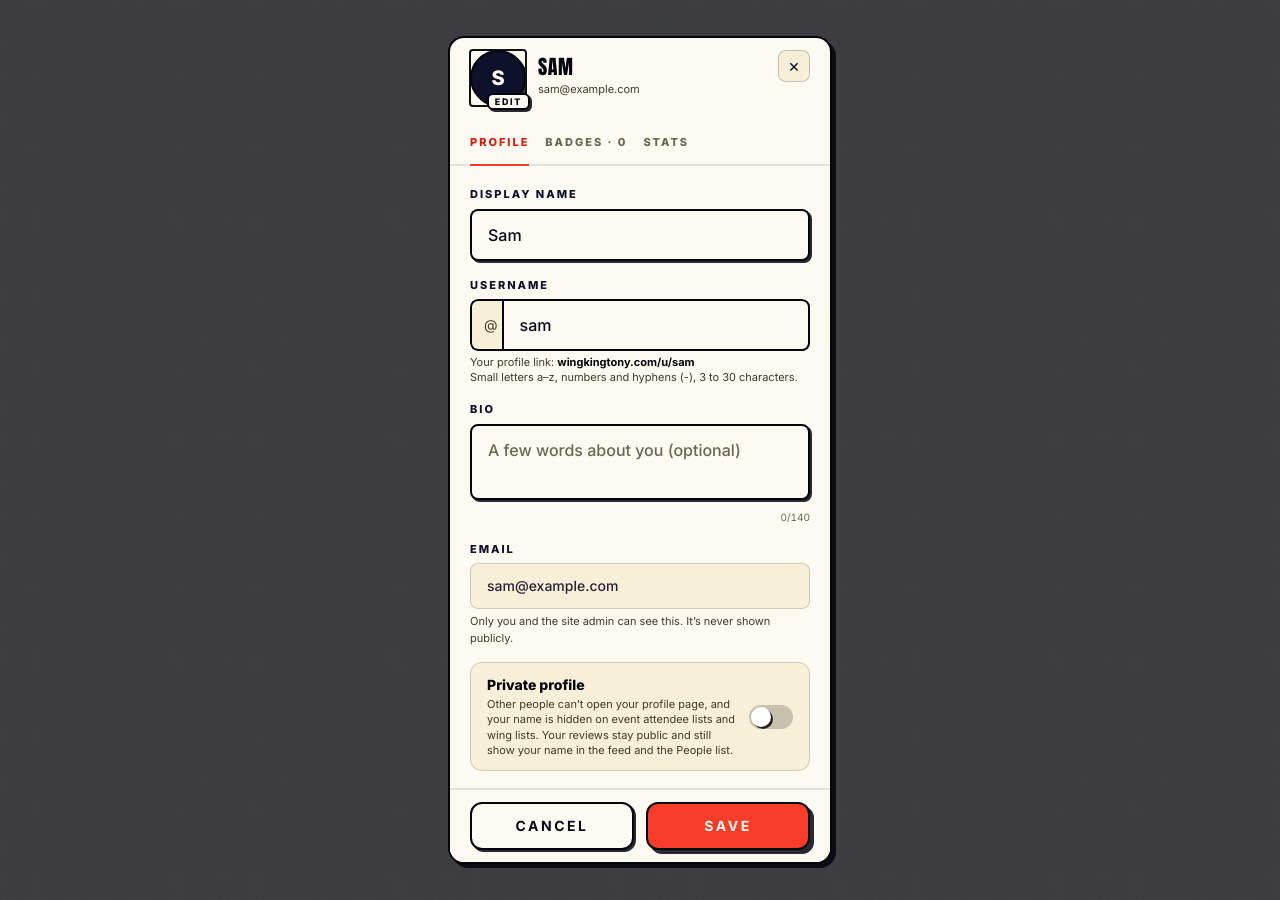
it: ProfileModal › still explains a username the server refuses after the check (taken in between)
The image size is (1280, 900).
Step 1. Replace the text in the field labelled "Username" with "tony" → (656, 325), box [502,299,810,351]
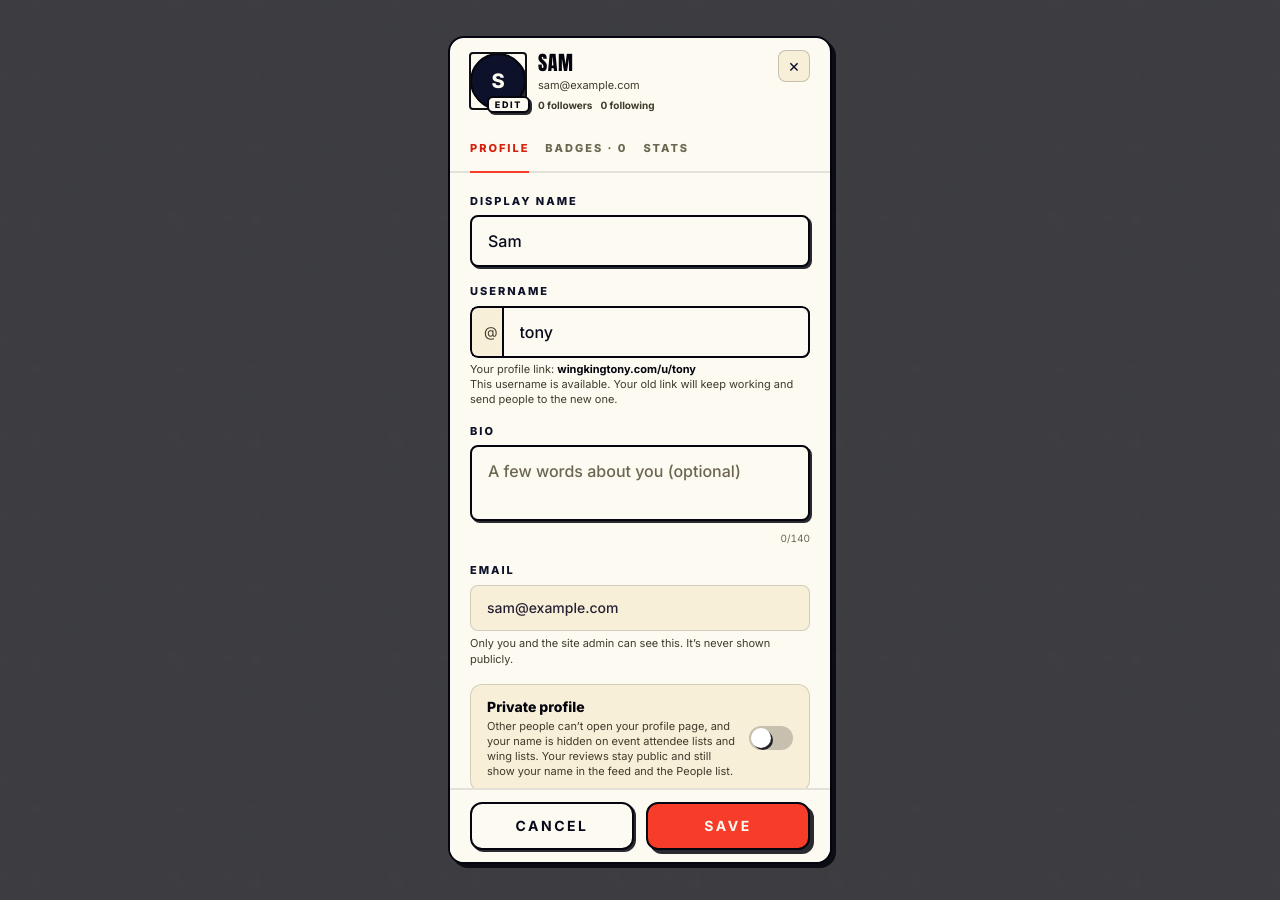
Now the text "This username is available" is shown, box [470,377,793,406]
Step 2. Click the button "Save" → (728, 826), box [646,802,810,850]
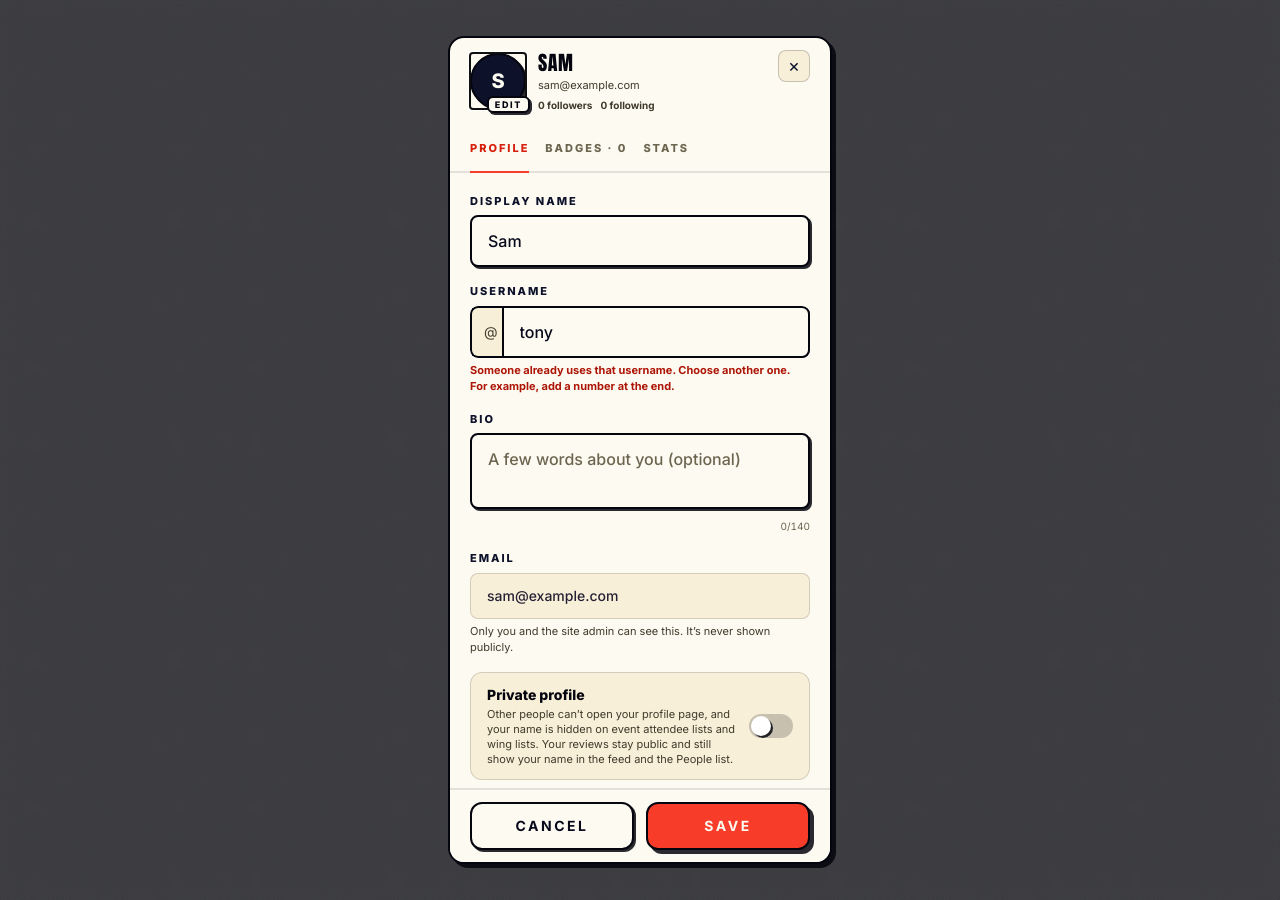
Expected: the message does not show "duplicate key", [470,362,810,394]
Now the message shows "Someone already uses that username", box [470,362,790,376]
